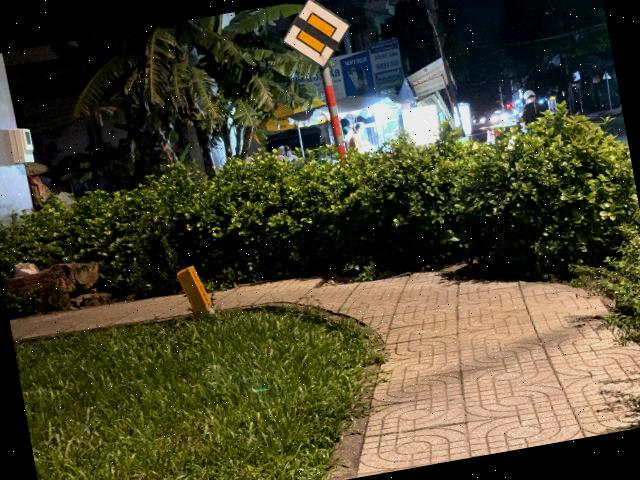het-duong-uu-tien: (277, 0, 357, 73)
